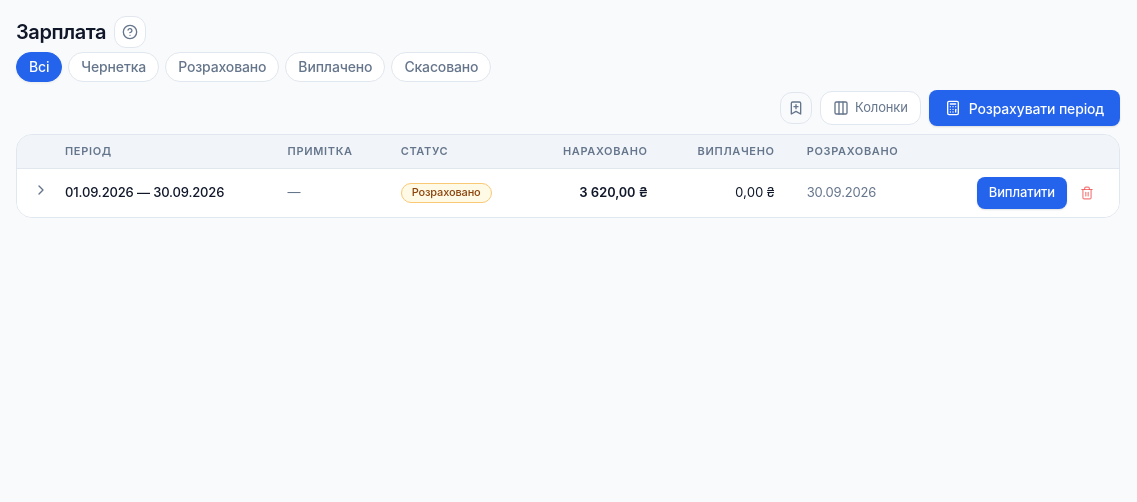
Scenario: Payroll — розшифровка по нарядах (drill-down) › дві особи — розшифровка не протікає: кожен рядок показує власні наряди
This screenshot has width=1137, height=502.
Click the button named "Розгорнути": (41, 190) top-left (33, 182), bottom-right (49, 198)
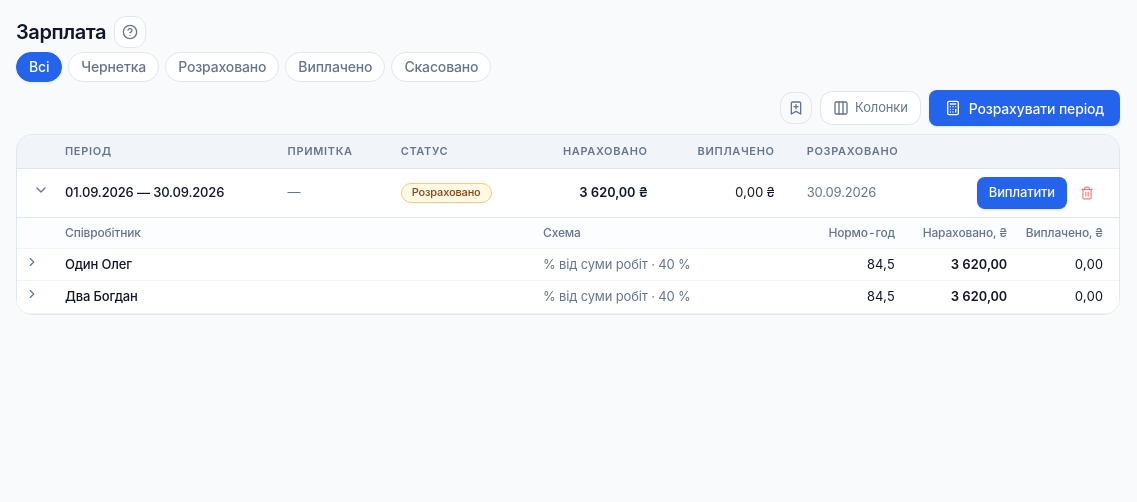
Check: the number of buttons named "Показати наряди" is 2
Click the button named "Показати наряди" next to "Один Олег": (32, 262) top-left (25, 254), bottom-right (39, 268)
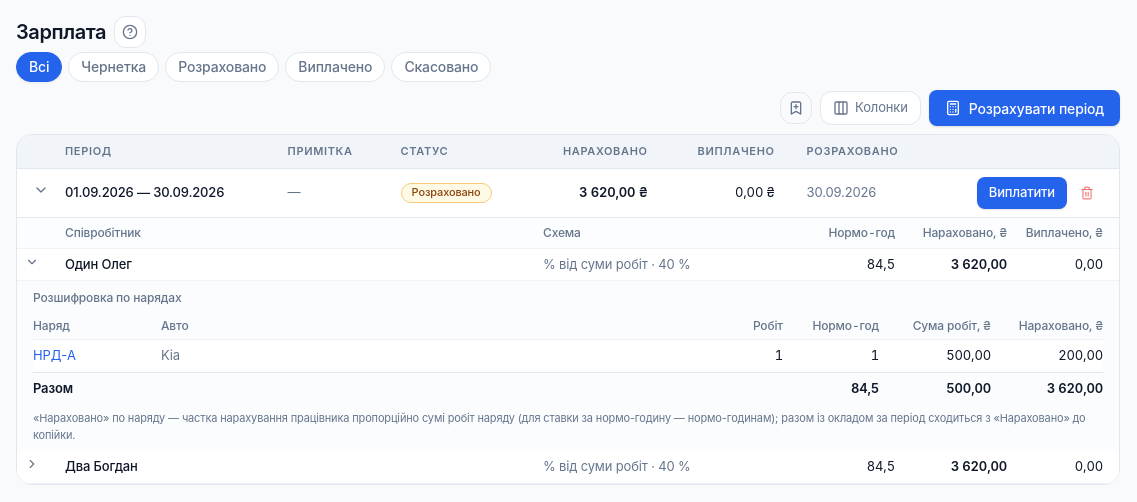
Check: the link "НРД-A" is shown, box top-left (33, 347), bottom-right (76, 363)
